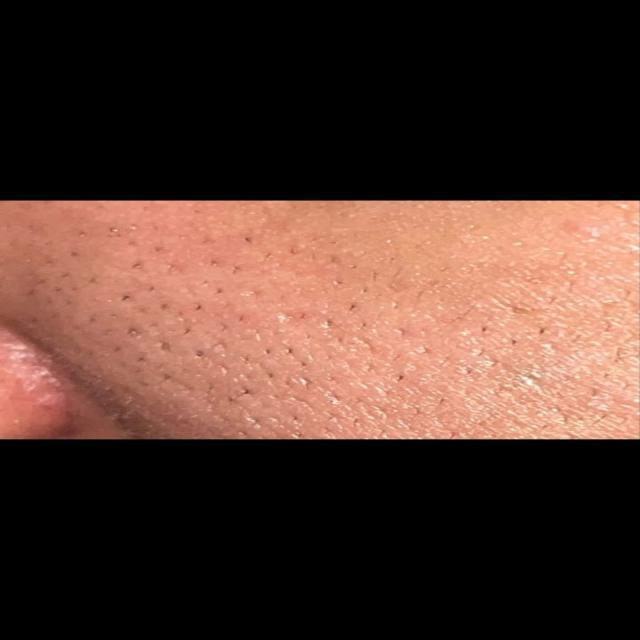blackhead: (36, 236, 357, 417)
